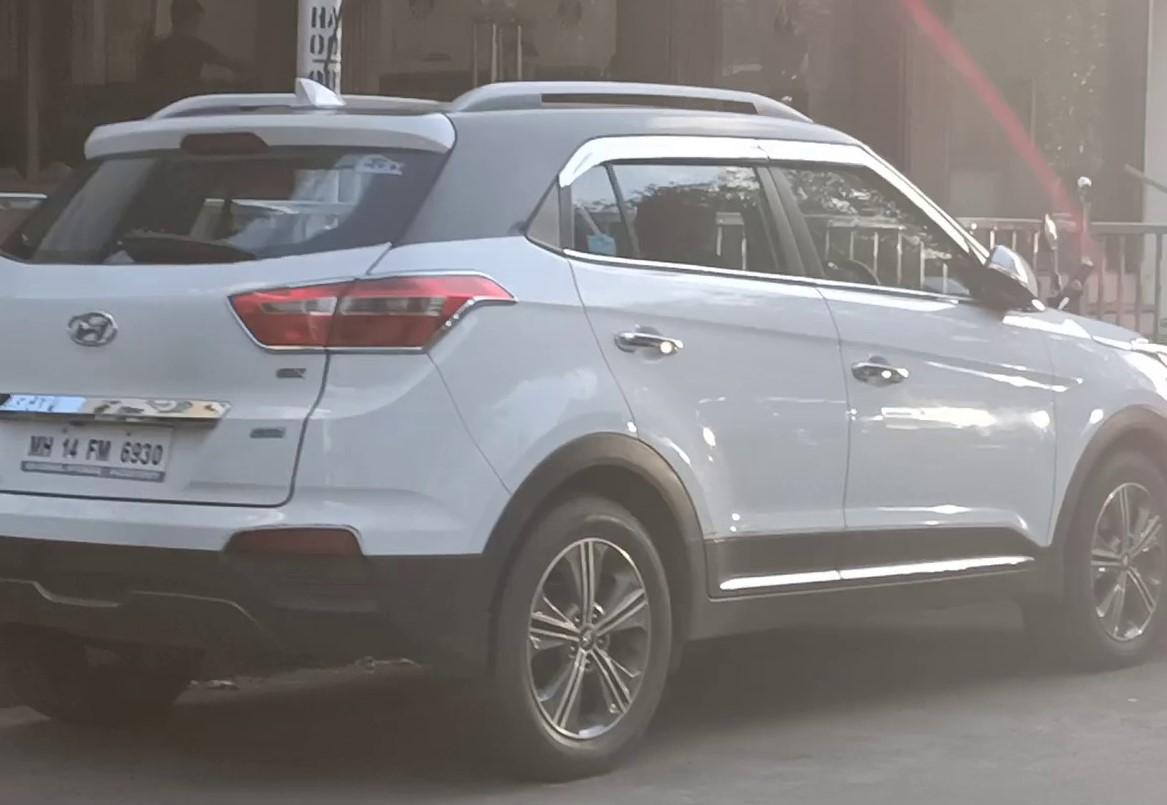MH14FM6930: (16, 425, 167, 479)
